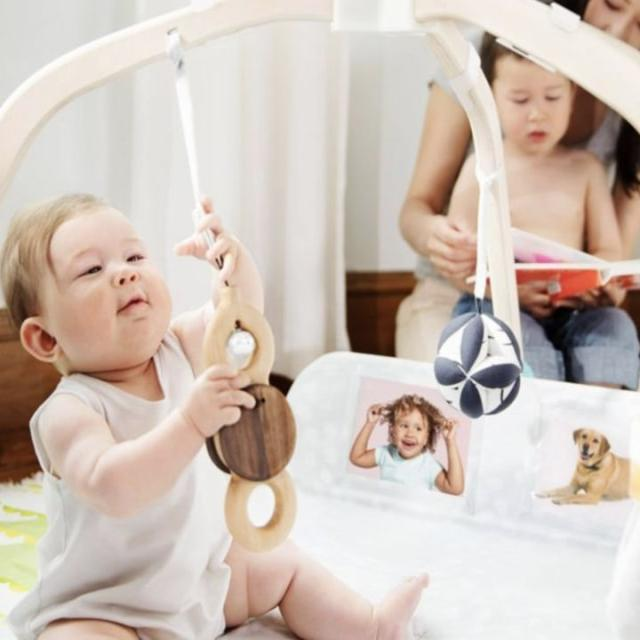adult_dog: (530, 426, 640, 507)
